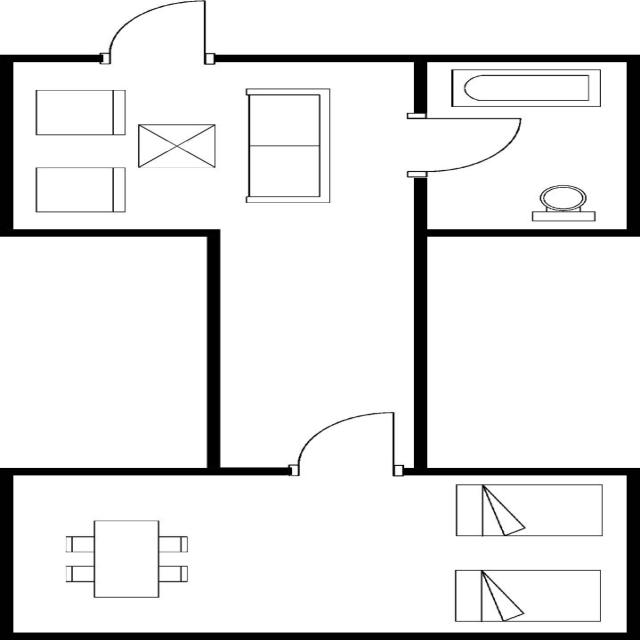bed: (446, 478, 611, 542), (443, 563, 609, 626)
coffee_table: (132, 122, 224, 170)
dining_table: (58, 515, 192, 601)
large_sink: (524, 181, 599, 226)
large_sofa: (237, 85, 334, 207)
small_sofa: (28, 163, 132, 215), (28, 87, 132, 138)
tub: (444, 65, 606, 110)
